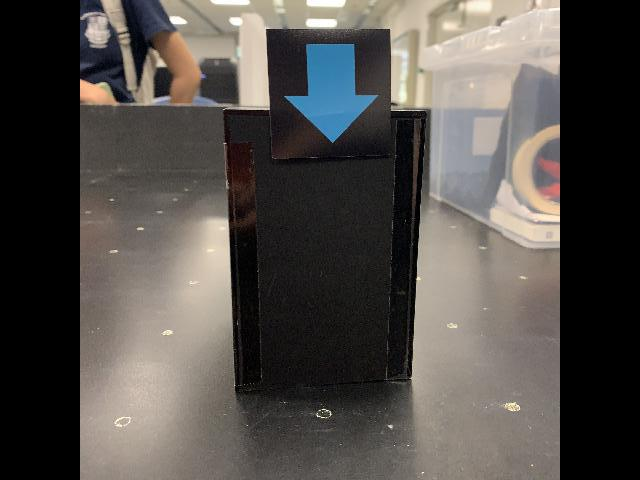down_arrow: (264, 25, 397, 163)
